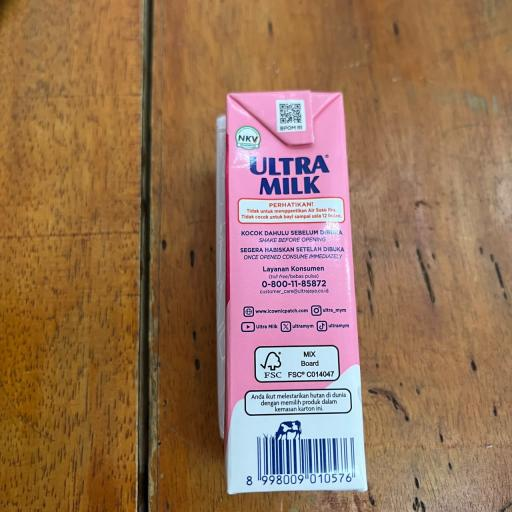Ultramilk Strawberry 200ml: (192, 92, 404, 512)
